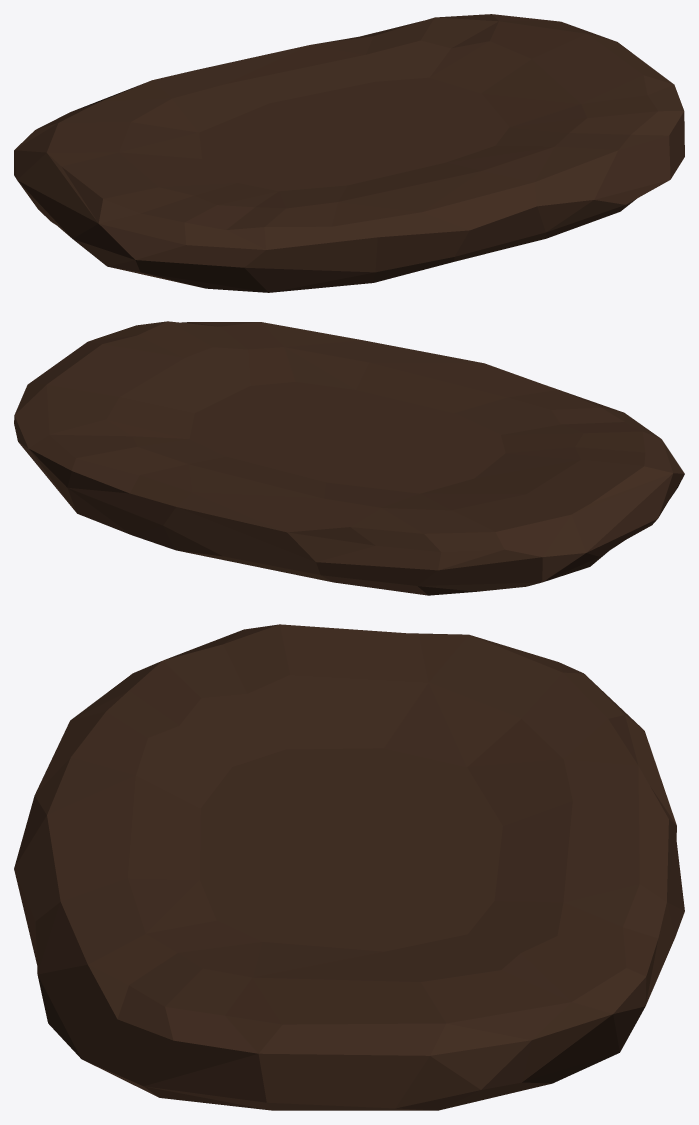
The model's file is stek2.fbx.
3 views of the same model, one above another, from view 1: azimuth 30°, elevation 25°; view 2: azimuth 150°, elevation 25°; view 3: azimuth 270°, elevation 25° (orthographic). The views are drawn at different scales.
Visible parts, largest first — view 1: stek 2; view 2: stek 2; view 3: stek 2.
Part boxes in pixels (x1,y1,x2,y2): stek 2: (14,14,684,292); stek 2: (14,321,684,595); stek 2: (14,624,684,1110).
Size of the model in its own units: 605 by 84.85 by 404.
